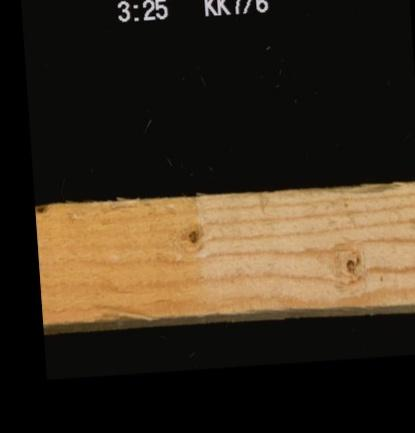edge_knot: (35, 201, 48, 217)
small_knot: (328, 238, 370, 289), (175, 219, 208, 254)
